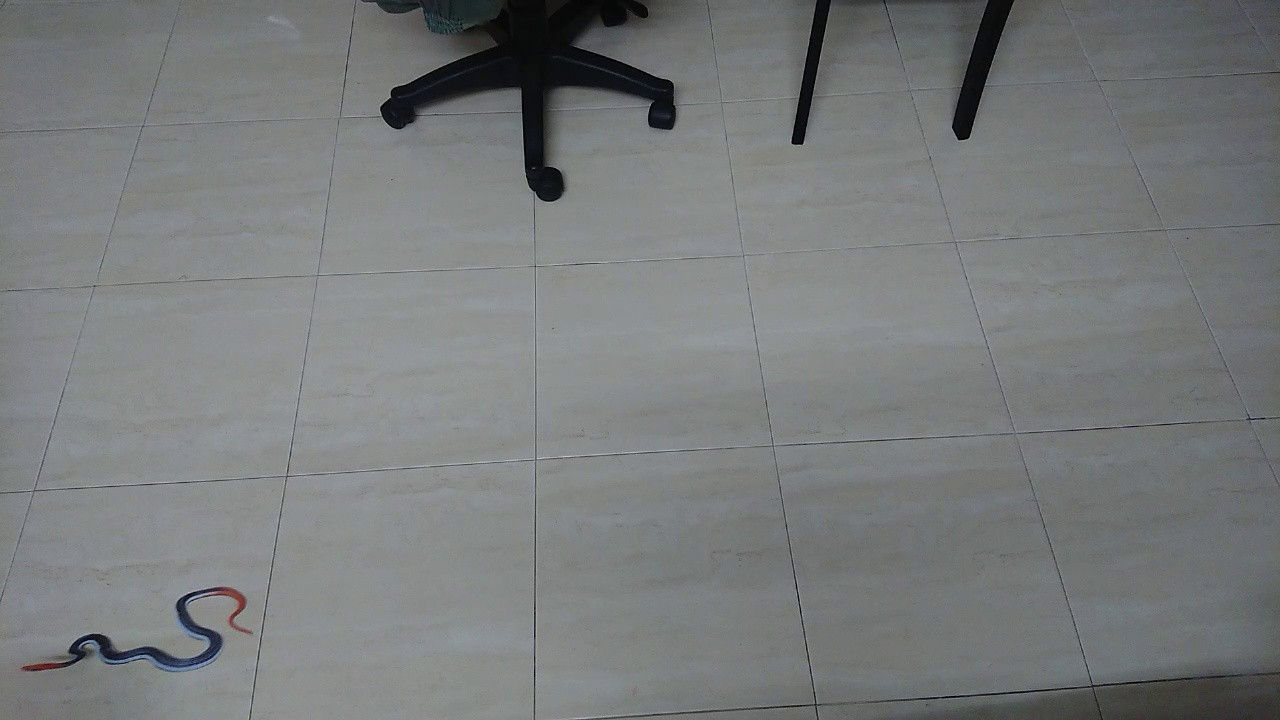snake: (9, 576, 268, 681)
